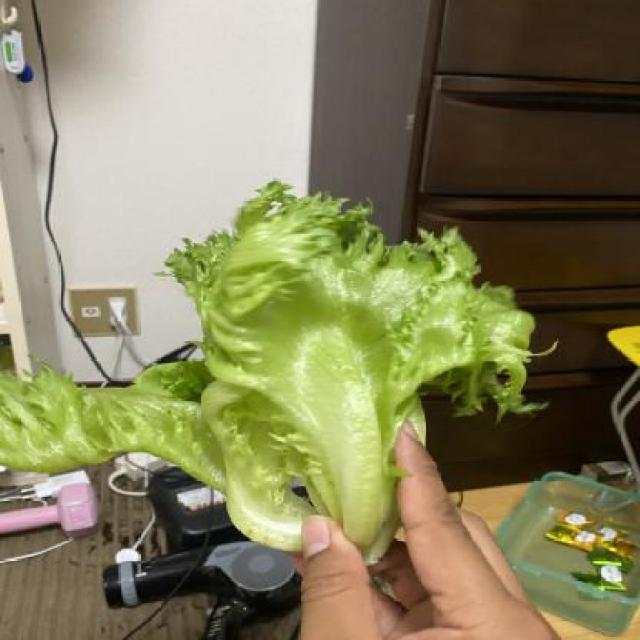Lettuce head: (2, 175, 564, 572)
